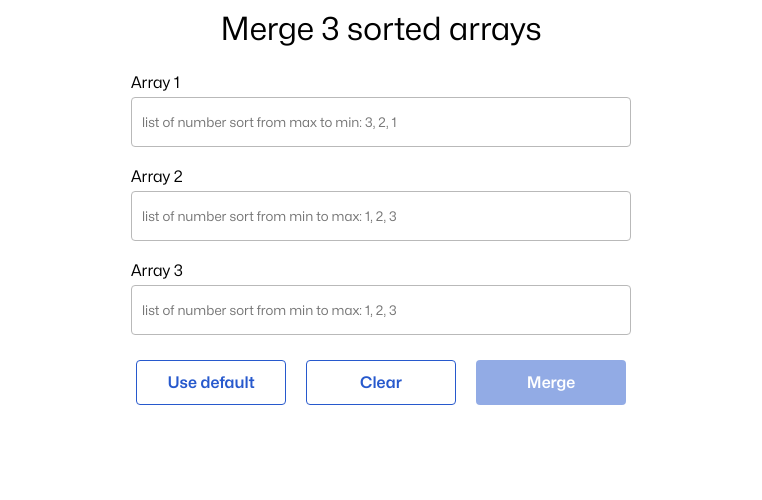
Test: <Home /> › have alphabet and should show error
Type "8, 3" into the field with id "array1-input" at point(381, 122), box [131,97,631,147]
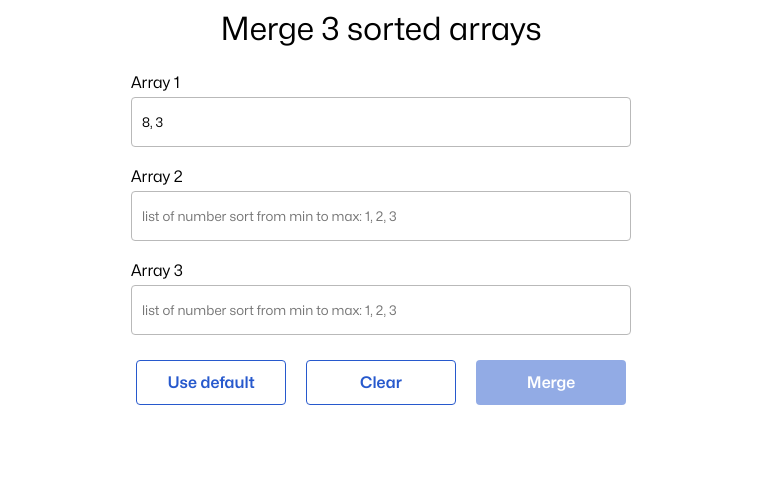
Type "2, 5, a" into the field with id "array2-input" at point(381, 216), box [131,191,631,241]
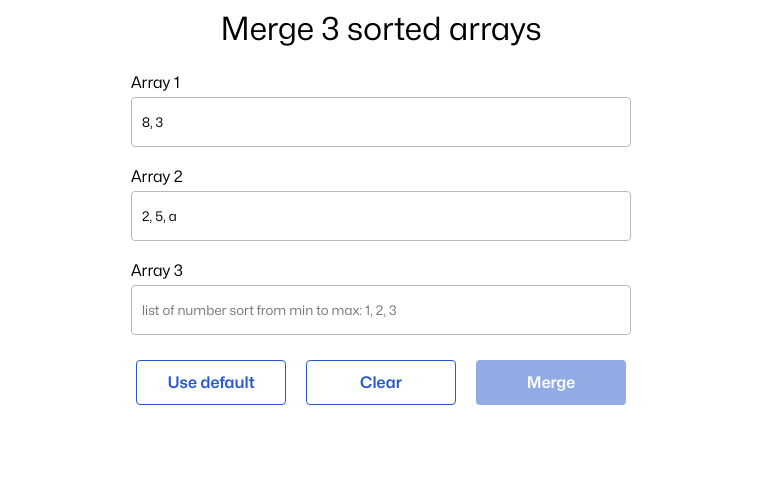
Type "1, 6" into the field with id "array3-input" at point(381, 310), box [131,285,631,335]
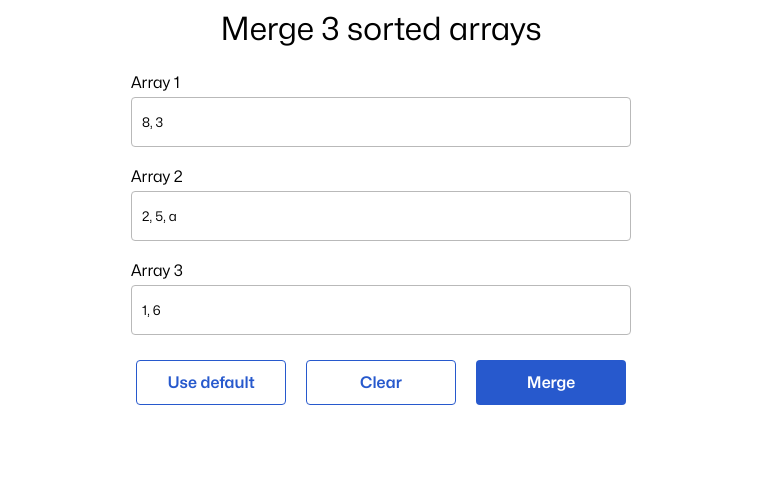
Click the button with id "merge-button" at point(551, 382), box [476,360,626,405]
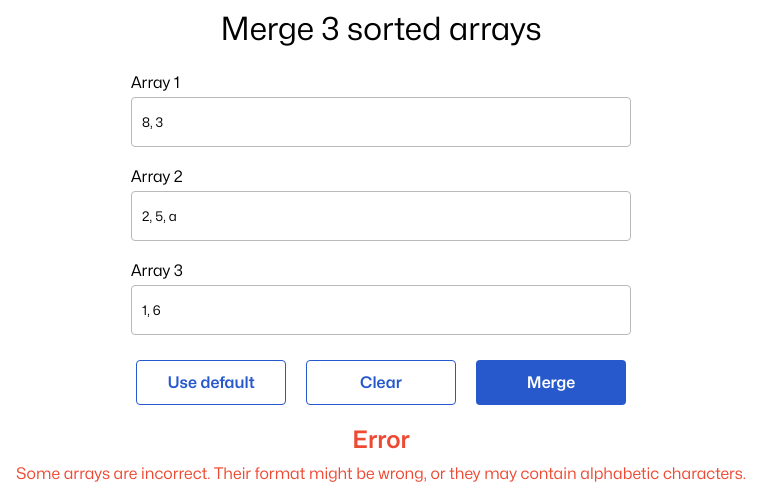
expect the text "Error" is shown: met, box [352,425,410,454]
expect the text "Some arrays are incorrect. Their format might be wrong, or they may contain alphabetic characters." is shown: met, box [16,464,746,483]
